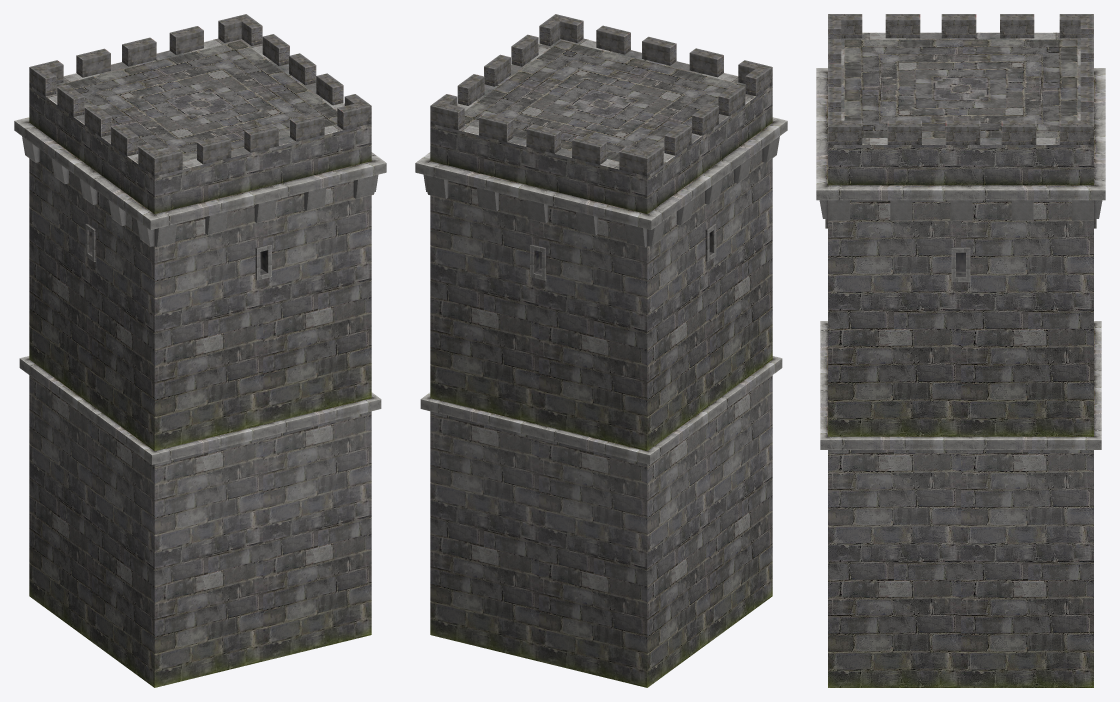
File: CastleSquareColumn.FBX
3 renders of one model, left to right at view 1: azimuth 30°, elevation 25°; view 2: azimuth 150°, elevation 25°; view 3: azimuth 270°, elevation 25°, orthographic. The views are drawn at different scales.
Visible parts, largest first — view 1: CastleSquareColumn; view 2: CastleSquareColumn; view 3: CastleSquareColumn.
Part boxes in pixels (box(x1,y1,x2,y2)): CastleSquareColumn: box(14, 14, 386, 687); CastleSquareColumn: box(415, 14, 787, 687); CastleSquareColumn: box(816, 14, 1105, 687).
Size of the model in its own units: 1418 by 3038 by 1418.
